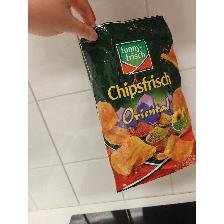Chips: (74, 13, 194, 195)
